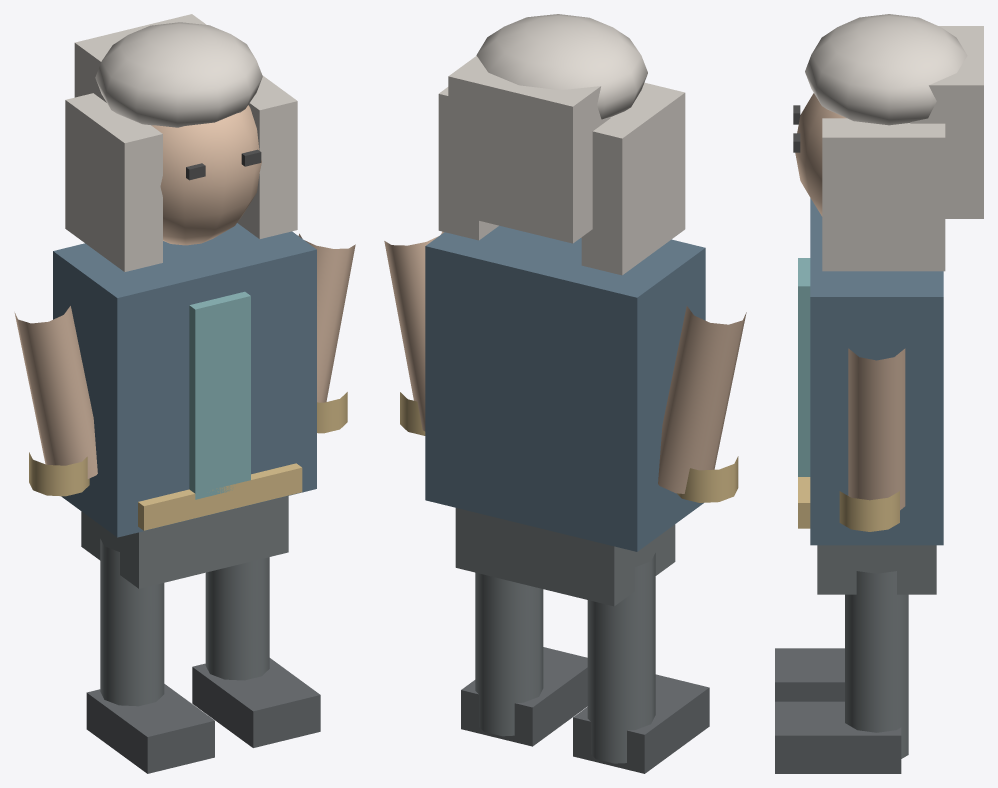
File: saia-merel.glb
3 views of the same model, side by side, from view 1: azimuth 30°, elevation 25°; view 2: azimuth 150°, elevation 25°; view 3: azimuth 270°, elevation 25° (orthographic). The views are drawn at different scales.
Parts seen in each view (by area): view 1: Torso, HairL, HairCap, Vest, Pelvis, Head, ArmL, LegL, FootR, FootL, LegR, HairR (+5 smaller); view 2: Torso, HairBack, HairL, Pelvis, HairCap, LegL, ArmL, LegR, FootL, FootR, ArmR, HairR (+2 smaller); view 3: Torso, HairR, HairCap, LegR, ArmR, FootR, HairBack, Pelvis, FootL, Vest, Head, CuffR (+1 smaller).
Part boxes in pixels (x1,y1,x2,y2): Torso: (53, 223, 316, 537); HairL: (65, 93, 162, 271); HairCap: (95, 22, 262, 127); Vest: (189, 291, 250, 499); Pelvis: (81, 496, 288, 588); Head: (151, 105, 261, 245); ArmL: (14, 306, 97, 478); LegL: (100, 539, 164, 706); FootR: (192, 658, 320, 747); FootL: (86, 684, 214, 773); LegR: (205, 557, 269, 680); HairR: (237, 75, 297, 239); Torso: (425, 225, 705, 551); HairBack: (448, 56, 610, 243); HairL: (581, 83, 685, 275); Pelvis: (455, 508, 675, 606); HairCap: (476, 14, 647, 119); LegL: (587, 553, 655, 763); ArmL: (658, 306, 746, 493); LegR: (475, 572, 543, 736); FootL: (573, 674, 709, 773); FootR: (461, 647, 587, 746); ArmR: (384, 231, 444, 431); HairR: (438, 87, 498, 240); Torso: (810, 198, 943, 545); HairR: (822, 118, 945, 271); HairCap: (805, 14, 967, 125); LegR: (845, 571, 908, 758); ArmR: (848, 348, 905, 510); FootR: (775, 701, 901, 773); HairBack: (910, 26, 983, 218); Pelvis: (817, 545, 936, 594); FootL: (775, 648, 844, 701); Vest: (798, 258, 810, 476); Head: (795, 93, 846, 216); CuffR: (839, 491, 899, 531).
Size of the model in its own units: 1.14 by 2.21 by 0.595.
